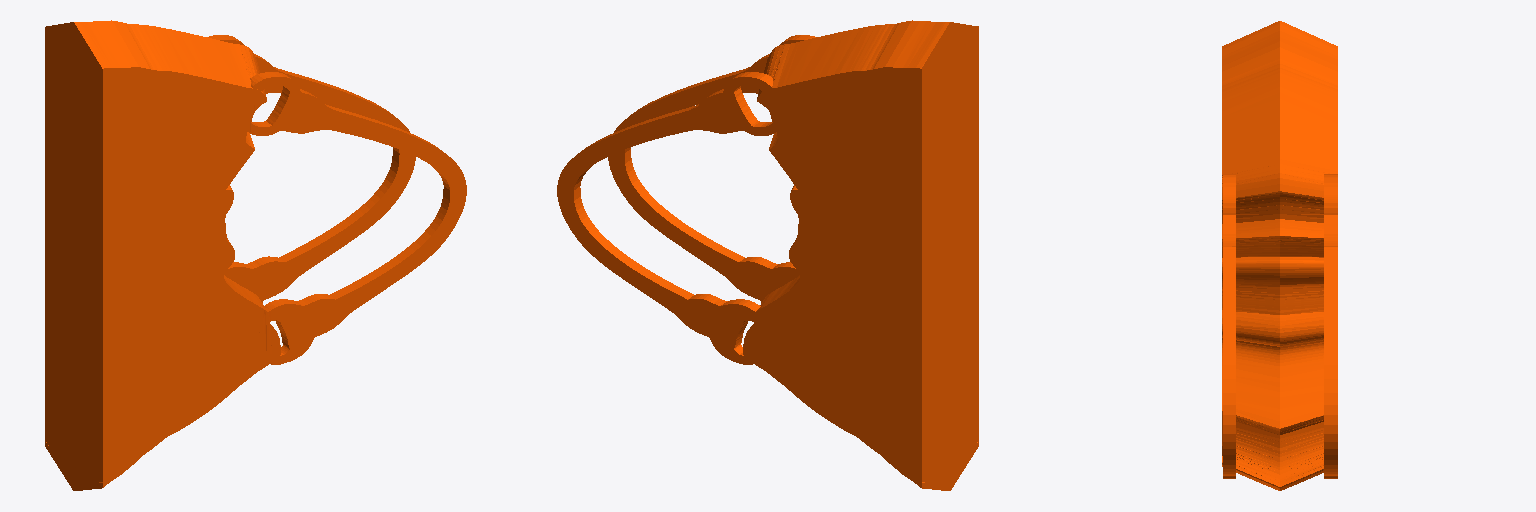
The robot description file, URDF, robot "2024-09-16_1_Purse_f58":
<?xml version="1.0" ?>
<robot name="2024-09-16_1_Purse_f58">
   <material name="obj_color">
      <color rgba="1.0 0.423529411765 0.0392156862745 1.0"/>
   </material>
   <link name="top">
      <inertial>
         <origin rpy="-0.0009189292073616523 -0.0007682698072718286 -0.0002521378633489957" xyz="0.02788418316074705 0.01756729927025536 0.08047081417958951"/>
         <mass value="-0.4907843963711416"/>
         <inertia ixx="-0.0007682114245963664" ixy="2.02588897385908e-07" ixz="-5.501845695603471e-06" iyy="-0.0009189289349960016" iyz="-1.415596883295627e-09" izz="-0.0002521965183901085"/>
      </inertial>
      <visual>
         <origin rpy="0 0 0" xyz="0 0 0"/>
         <geometry>
            <mesh filename="top_watertight_tiny.stl" scale="1 1 1"/>
         </geometry>
         <material name="obj_color"/>
      </visual>
      <collision>
         <origin rpy="0 0 0" xyz="0 0 0"/>
         <geometry>
            <mesh filename="top_watertight_tiny.obj" scale="1 1 1"/>
         </geometry>
      </collision>
   </link>
   <link name="bottom">
      <inertial>
         <origin rpy="1.633333333199431e-08 1.633333333199431e-08 1.633333333362855e-08" xyz="0.3464080000000008 0.3464080000000008 0.3464080000000008"/>
         <mass value="0.0009800000000000017"/>
         <inertia ixx="1.633333333253906e-08" ixy="5.447480642029219e-19" ixz="5.447480642029219e-19" iyy="1.633333333253906e-08" iyz="5.447480642029219e-19" izz="1.633333333253906e-08"/>
      </inertial>
      <visual>
         <origin rpy="0 0 0" xyz="0 0 0"/>
         <geometry>
            <mesh filename="bottom_watertight_tiny.stl" scale="1 1 1"/>
         </geometry>
         <material name="obj_color"/>
      </visual>
   </link>
   <joint name="rotation" type="revolute">
      <origin xyz="0 0 0"/>
      <axis xyz="0 0 -1"/>
      <parent link="bottom"/>
      <child link="top"/>
      <dynamics damping="1.0" friction="1.0"/>
      <limit effort="0.1" velocity="0.1" lower="0" upper="0.001"/>
   </joint>
</robot>

--- What the picture shows (computed from the rendered views, not written in the file) ---
Views: 3 orthographic renders of the robot side by side, from view 1: azimuth 30°, elevation 25°; view 2: azimuth 150°, elevation 25°; view 3: azimuth 270°, elevation 25°.
Robot: 2024-09-16_1_Purse_f58 — 2 links, 1 joints (1 revolute); root link bottom; default pose: all joints at 0.
Links seen in each view (by area): view 1: top; view 2: top; view 3: top.
Boxes of the visible links, x1=… form: top: x1=45, y1=20, x2=466, y2=490; top: x1=557, y1=20, x2=978, y2=490; top: x1=1222, y1=21, x2=1337, y2=490.
Bounding box of the posed robot: 0.1284 × 0.0351 × 0.158 m (x, y, z).
1 mesh visuals loaded from 2 distinct referenced files (1 binary STL); not drawn: 1 (reference not matched to a file when rendering).
